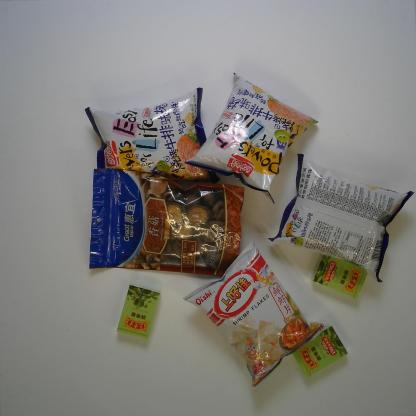Candy: (292, 324, 348, 378), (310, 254, 368, 300), (116, 284, 161, 340)
Dried Food: (88, 167, 246, 278)
Puffed Food: (183, 238, 326, 389), (267, 152, 416, 285), (184, 71, 320, 205), (84, 86, 221, 185)
